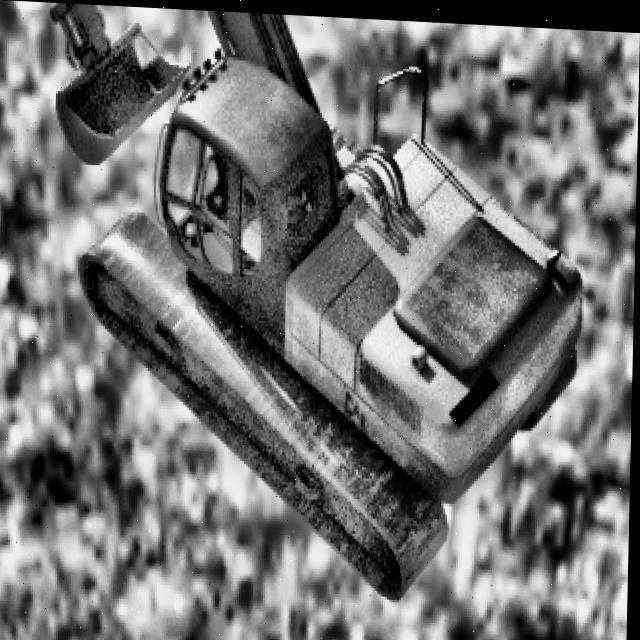excavator: (0, 1, 586, 602)
